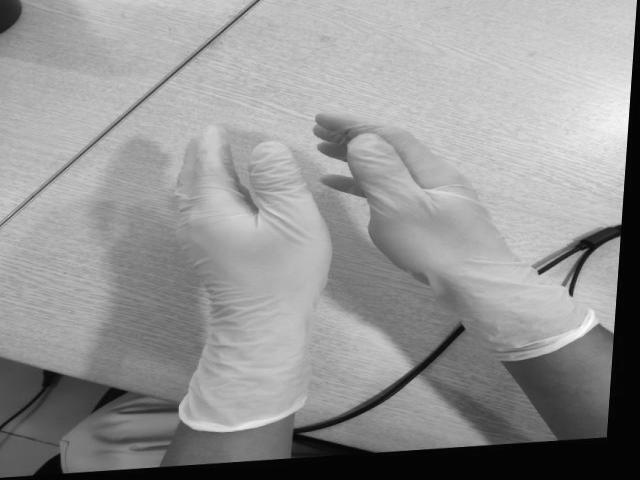gloved: (312, 106, 546, 283), (176, 123, 334, 337)
